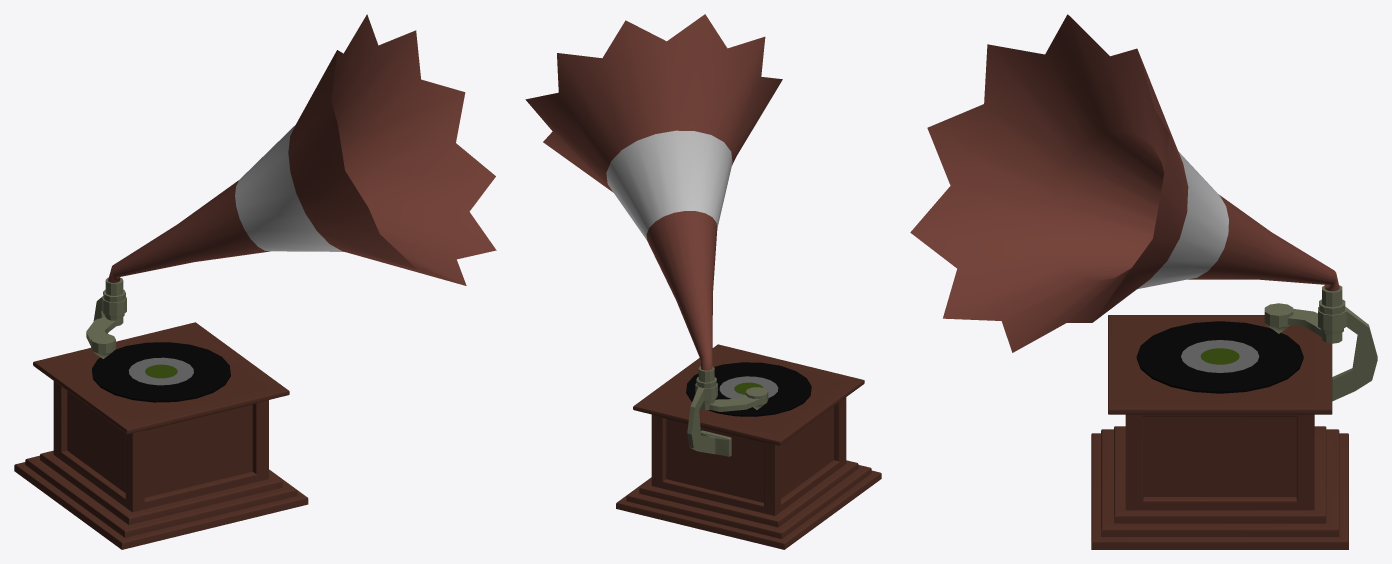
Rendered from gramofone.fbx.
3 renders of one model, left to right at view 1: azimuth 30°, elevation 25°; view 2: azimuth 150°, elevation 25°; view 3: azimuth 270°, elevation 25°, orthographic. The views are drawn at different scales.
Parts seen in each view (by area): view 1: pCylinder4, pCube1, pCylinder5; view 2: pCylinder4, pCube1, pCylinder5, pCylinder2, pCylinder6; view 3: pCylinder4, pCube1, pCylinder5, pCylinder2, pCylinder6, pCylinder3, pCylinder7.
Part boxes in pixels (<box>): pCylinder4: <box>108,14,496,285</box>; pCube1: <box>14,322,308,549</box>; pCylinder5: <box>92,342,230,402</box>; pCylinder4: <box>525,14,782,370</box>; pCube1: <box>616,344,881,549</box>; pCylinder5: <box>686,362,811,416</box>; pCylinder2: <box>687,383,731,456</box>; pCylinder6: <box>700,395,760,411</box>; pCylinder4: <box>910,14,1339,352</box>; pCube1: <box>1091,315,1348,549</box>; pCylinder5: <box>1136,321,1303,393</box>; pCylinder2: <box>1318,307,1377,401</box>; pCylinder6: <box>1287,309,1342,343</box>; pCylinder3: <box>1319,285,1345,335</box>; pCylinder7: <box>1264,303,1293,333</box>.
Bounding box in the file's own units: 34.42 × 40.14 × 31.1.
